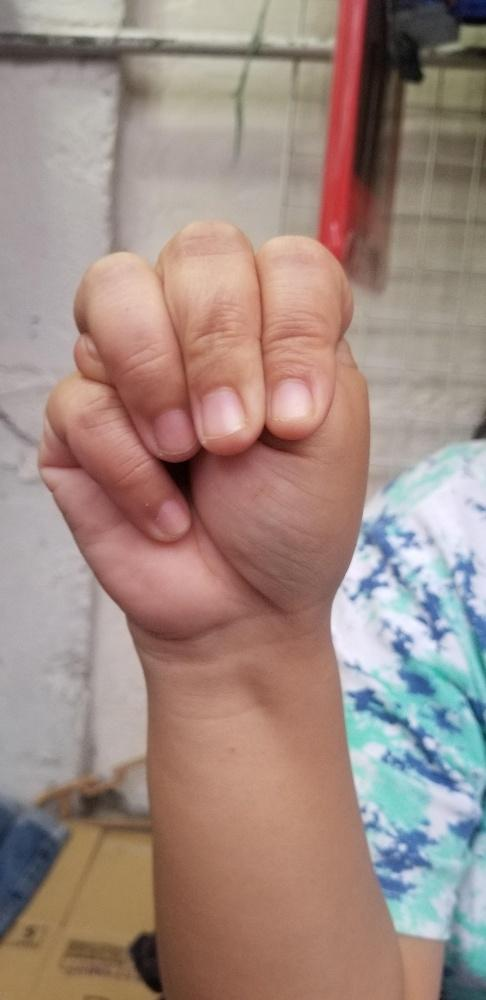m: (37, 216, 371, 638)
